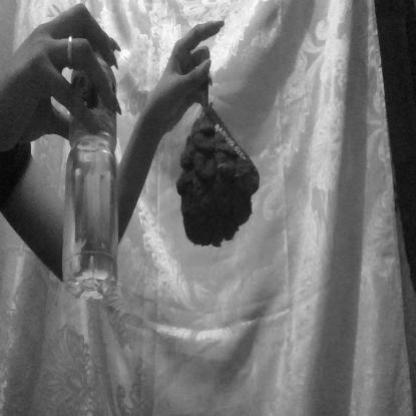Plastic Bottle: (36, 32, 138, 310)
